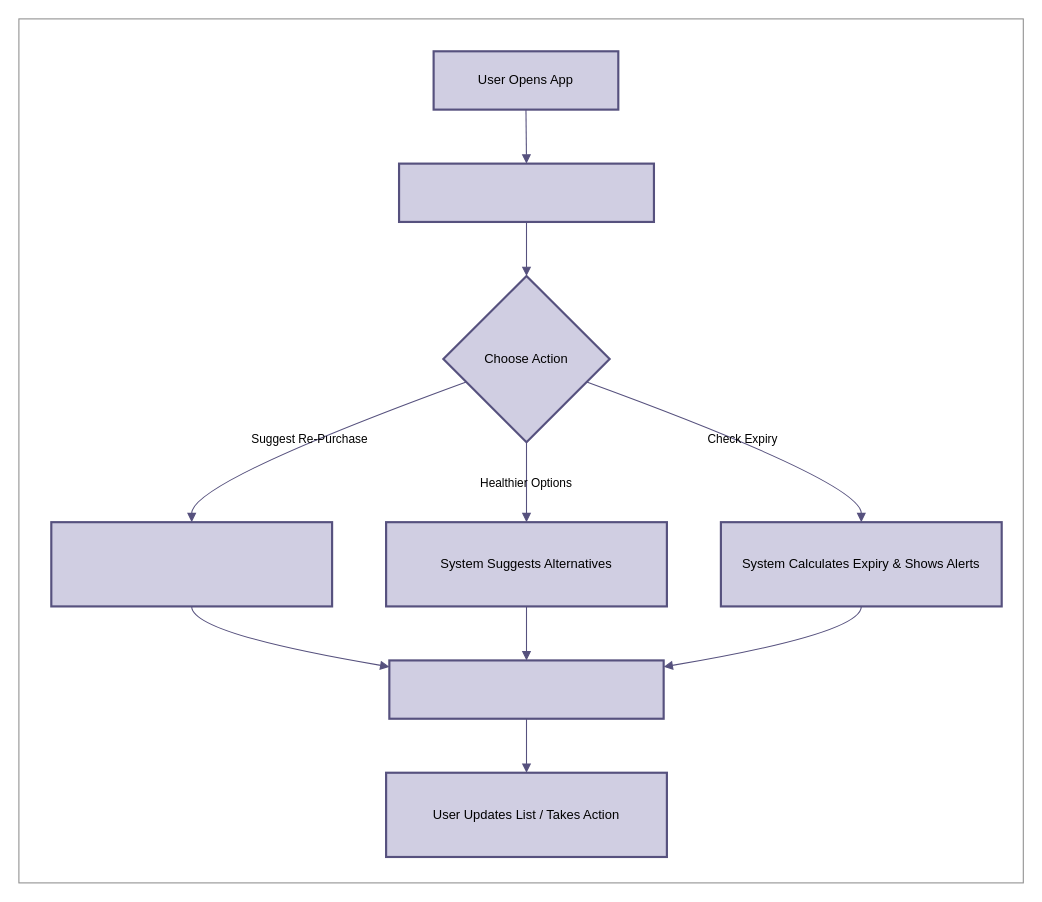
Image size: 1042x902. Some labels were removed from this diagram. The shapes that lost their labels are listed below. From the top down, each one's centre as x and y in pixels, then its label:
At point (525, 192): "Add Item to Grocery List".
At point (191, 564): "System Checks Purchase History".
At point (526, 689): "Display Suggestions to User".
